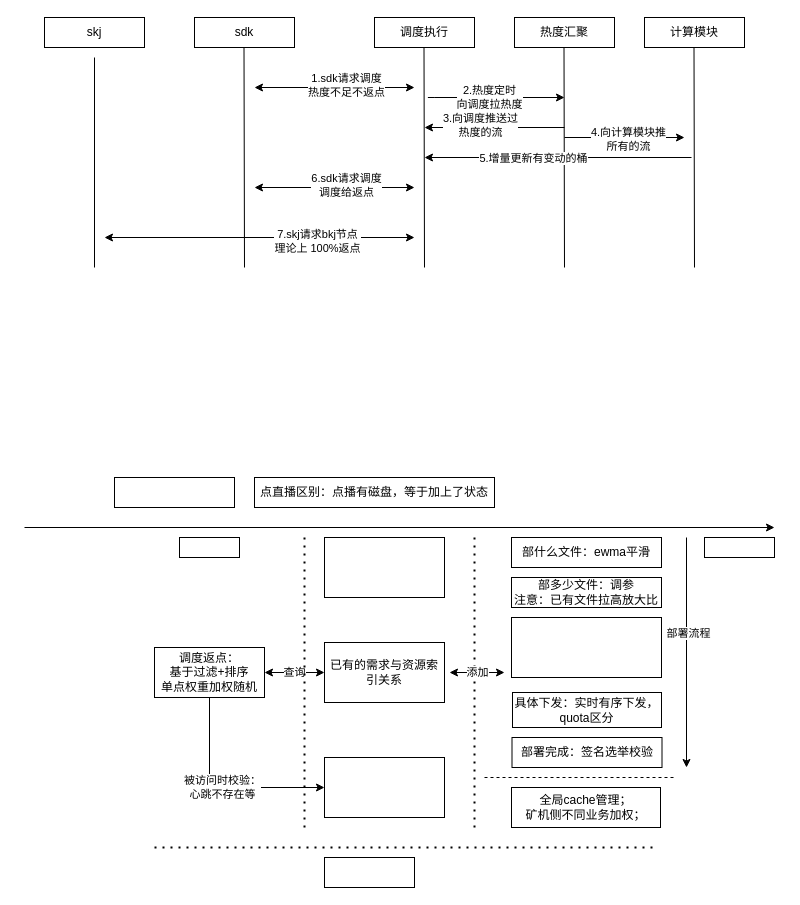
This 800x905 diagram has some shape labels left out. Each missing label, with the centre of its shape:
"出： 被删除的索引关系" belongs at pixel 384 787.
"指标：占比，放大比" belongs at pixel 174 492.
"给哪些部：全局导量； 频率控制：磁盘大小，类型，bw剩余， piece响应" belongs at pixel 586 647.
"节点质量画像" belongs at pixel 369 872.
"调度部分" belongs at pixel 209 547.
"进： 补充部署&新文件" belongs at pixel 384 567.
"部署部分" belongs at pixel 739 547.
